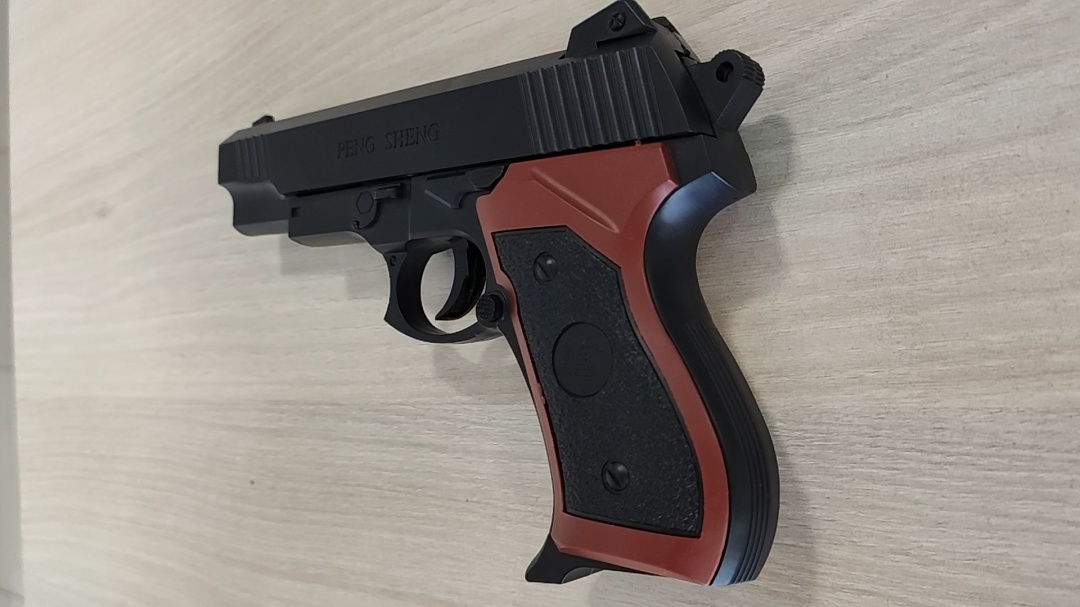gun: (465, 151, 558, 248)
